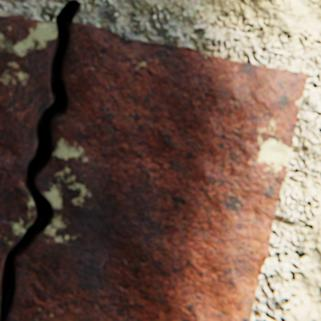broken_brick: (5, 23, 307, 320), (0, 14, 59, 307)
crack: (0, 0, 78, 320)
